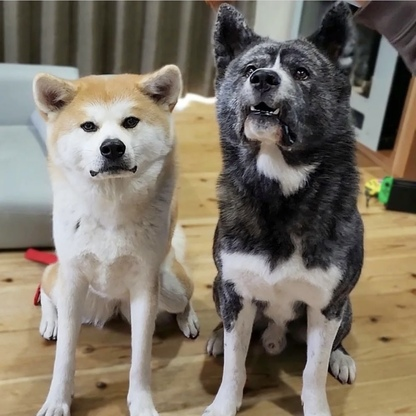akita: (204, 1, 373, 415), (20, 58, 207, 416)
